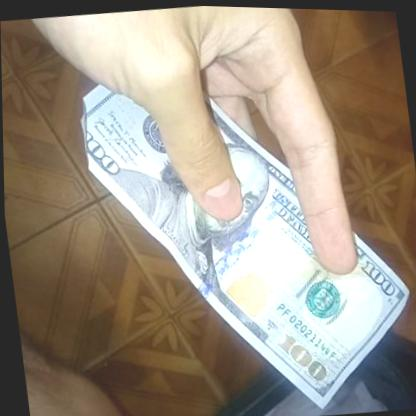one_hundred-front: (72, 47, 416, 416)
